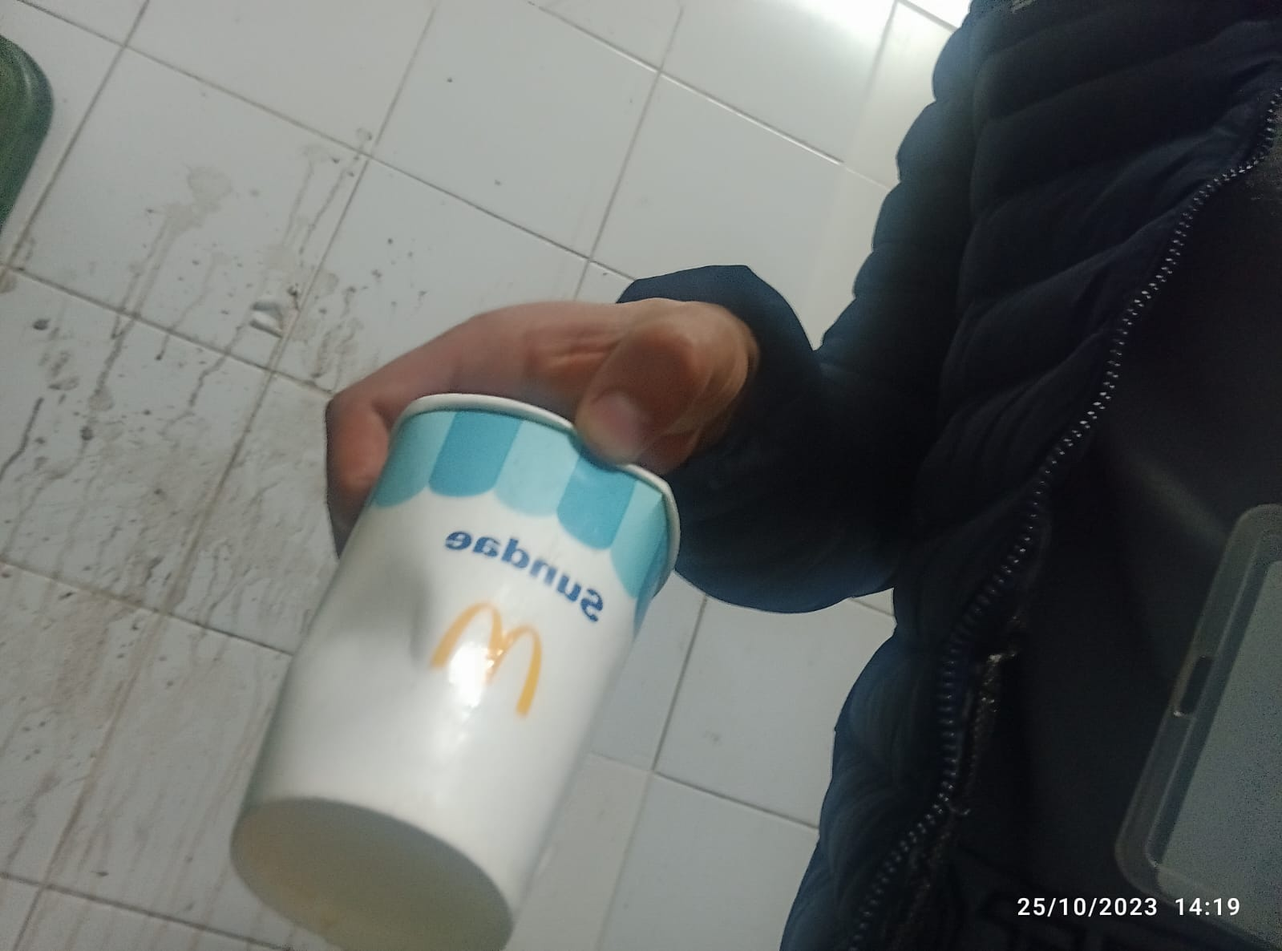Carton: (232, 390, 684, 951)
